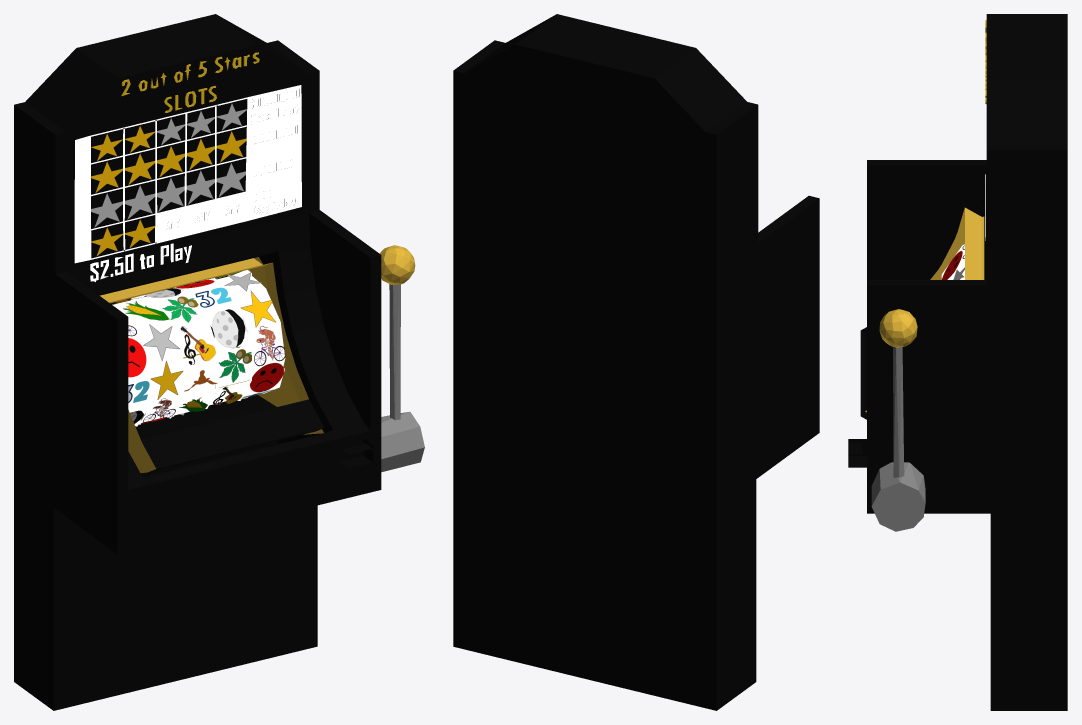
Rendered from 2 out of 5 Slot Machine.glb.
3 views of the same model, side by side, from view 1: azimuth 30°, elevation 25°; view 2: azimuth 150°, elevation 25°; view 3: azimuth 270°, elevation 25° (orthographic). The views are drawn at different scales.
Visible parts, largest first — view 1: Slot Machine, Pull Handle, Slot Wheel.002, Slot Wheel.003, Slot Wheel.001, Slot Wheel.004, Slot Wheel; view 2: Slot Machine; view 3: Slot Machine, Pull Handle, Slot Wheel.
Boxes of the visible parts, left/top/right/bottom form: Slot Machine: left=14, top=14, right=381, bottom=710; Pull Handle: left=379, top=245, right=424, bottom=472; Slot Wheel.002: left=139, top=287, right=218, bottom=418; Slot Wheel.003: left=176, top=279, right=251, bottom=408; Slot Wheel.001: left=112, top=296, right=184, bottom=424; Slot Wheel.004: left=209, top=270, right=285, bottom=399; Slot Wheel: left=113, top=305, right=150, bottom=426; Slot Machine: left=453, top=14, right=819, bottom=710; Slot Machine: left=848, top=14, right=1067, bottom=710; Pull Handle: left=871, top=309, right=925, bottom=531; Slot Wheel: left=941, top=244, right=964, bottom=279.
Size of the model in its own units: 1.03 by 1.96 by 0.6478.
19 materials, 10 textured.
